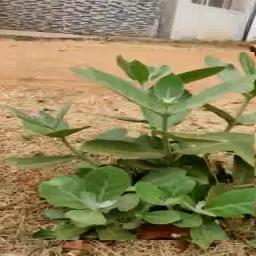CALOTROPIS: (17, 52, 255, 240)
